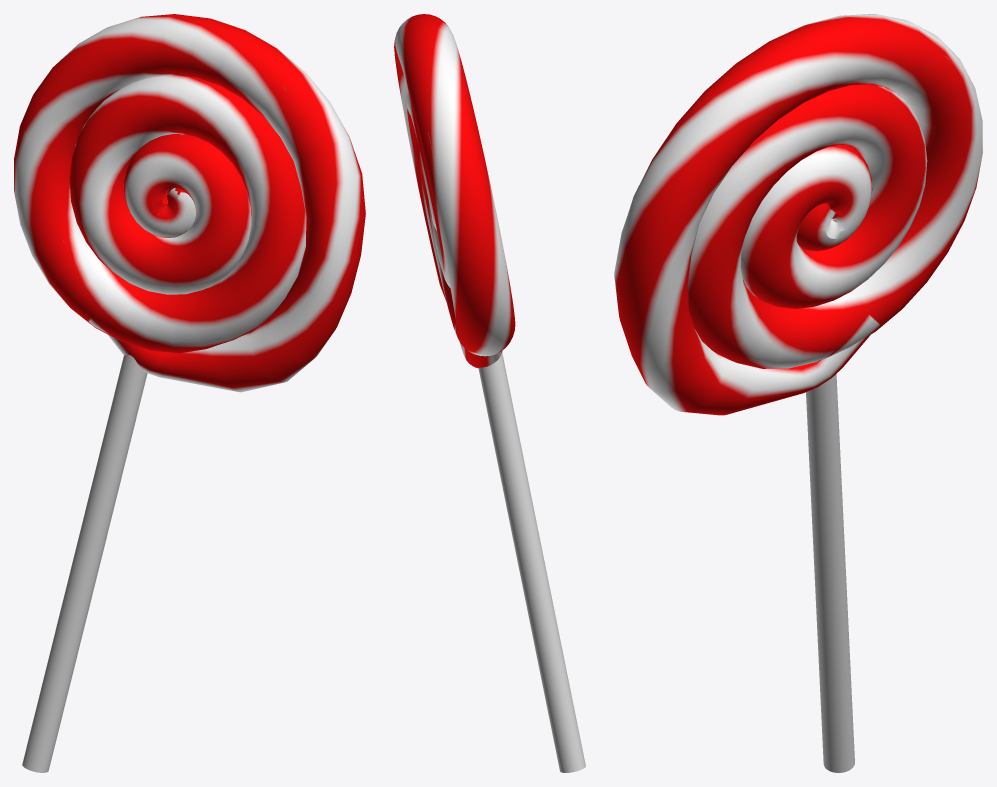
File: Lolipop Hand.fbx
3 views of the same model, side by side, from view 1: azimuth 30°, elevation 25°; view 2: azimuth 150°, elevation 25°; view 3: azimuth 270°, elevation 25° (orthographic). The views are drawn at different scales.
Parts seen in each view (by area): view 1: Cylinder.012, Cylinder.001; view 2: Cylinder.012, Cylinder.001; view 3: Cylinder.012, Cylinder.001.
Boxes of the visible parts, bbox=[...] form: Cylinder.012: bbox=[14, 14, 365, 392]; Cylinder.001: bbox=[22, 355, 147, 772]; Cylinder.012: bbox=[394, 14, 515, 368]; Cylinder.001: bbox=[478, 352, 585, 772]; Cylinder.012: bbox=[614, 14, 982, 415]; Cylinder.001: bbox=[806, 374, 854, 772].
Size of the model in its own units: 137 by 363 by 146.
